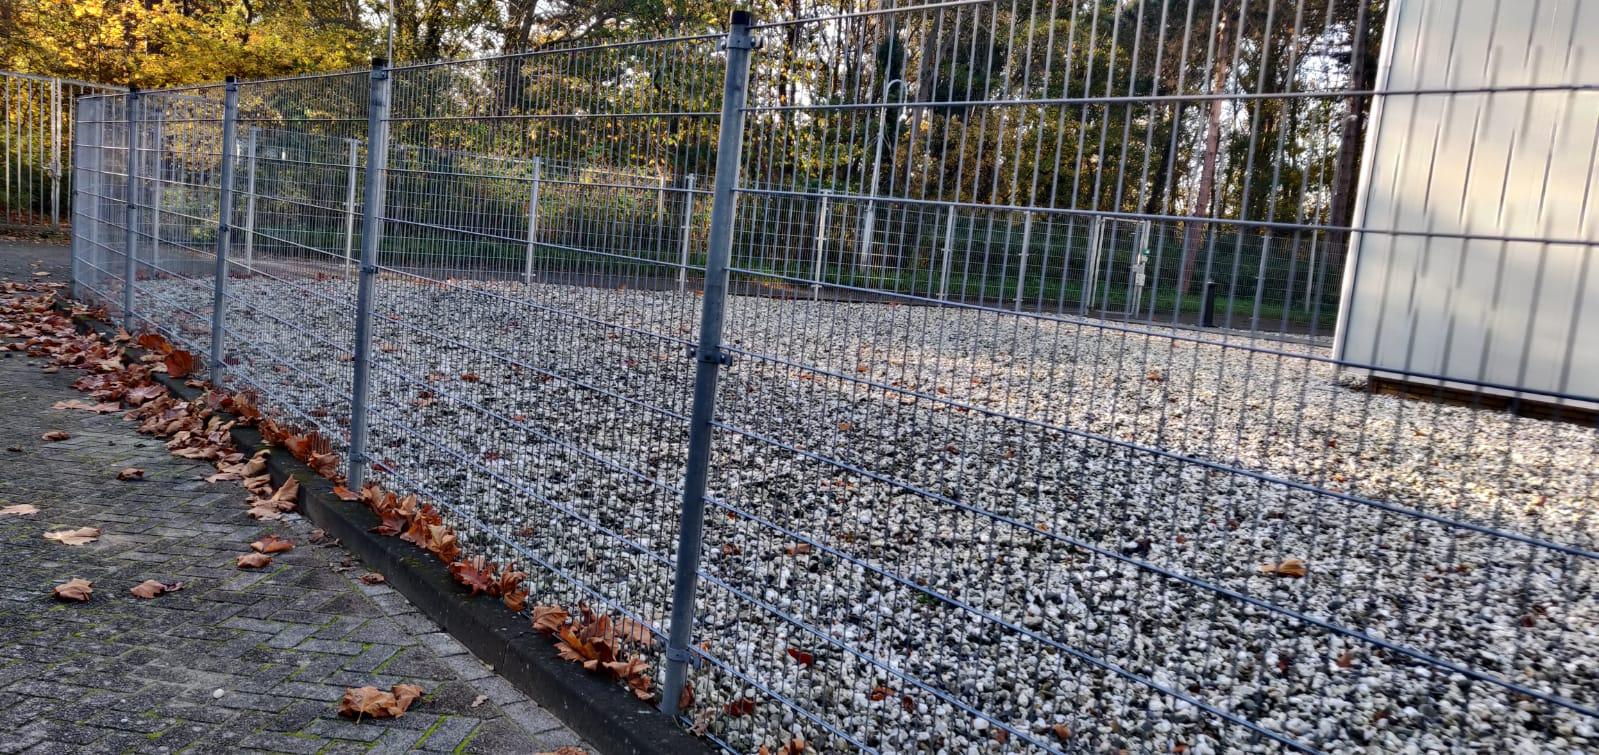obstacle: (106, 214, 1575, 633)
